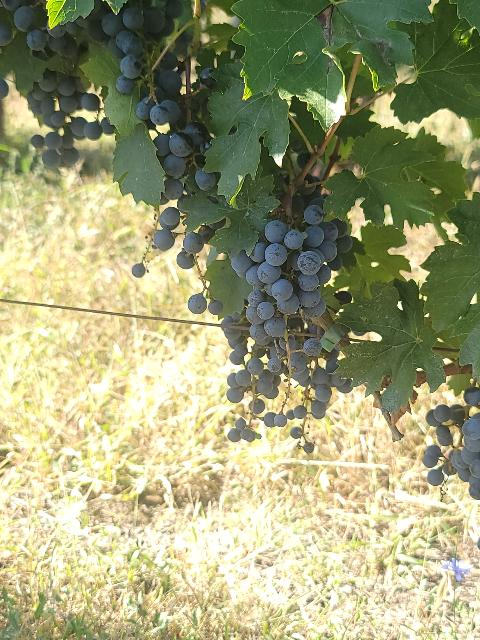grapes: (231, 204, 339, 316), (82, 0, 181, 94), (26, 70, 114, 169), (154, 121, 210, 250), (221, 316, 280, 415), (290, 350, 352, 419)
